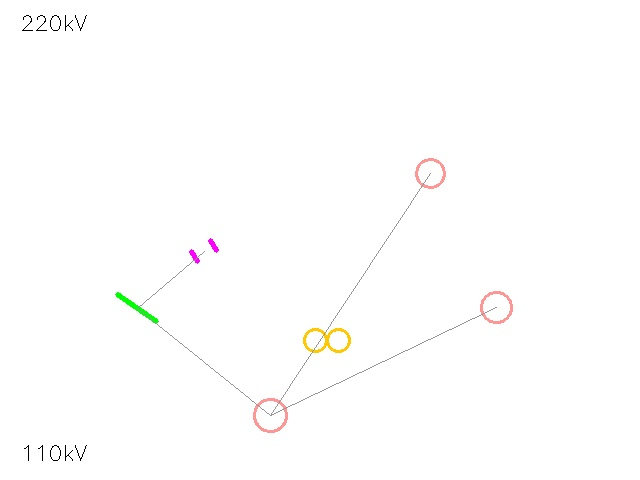busbar: (107, 278, 167, 338)
capacitor: (186, 233, 222, 269)
feeder_terminal: (401, 144, 459, 202)
surge_arrester: (465, 276, 527, 338)
transformer_2w: (299, 312, 355, 368)
voltage_transformer: (237, 382, 303, 448)
